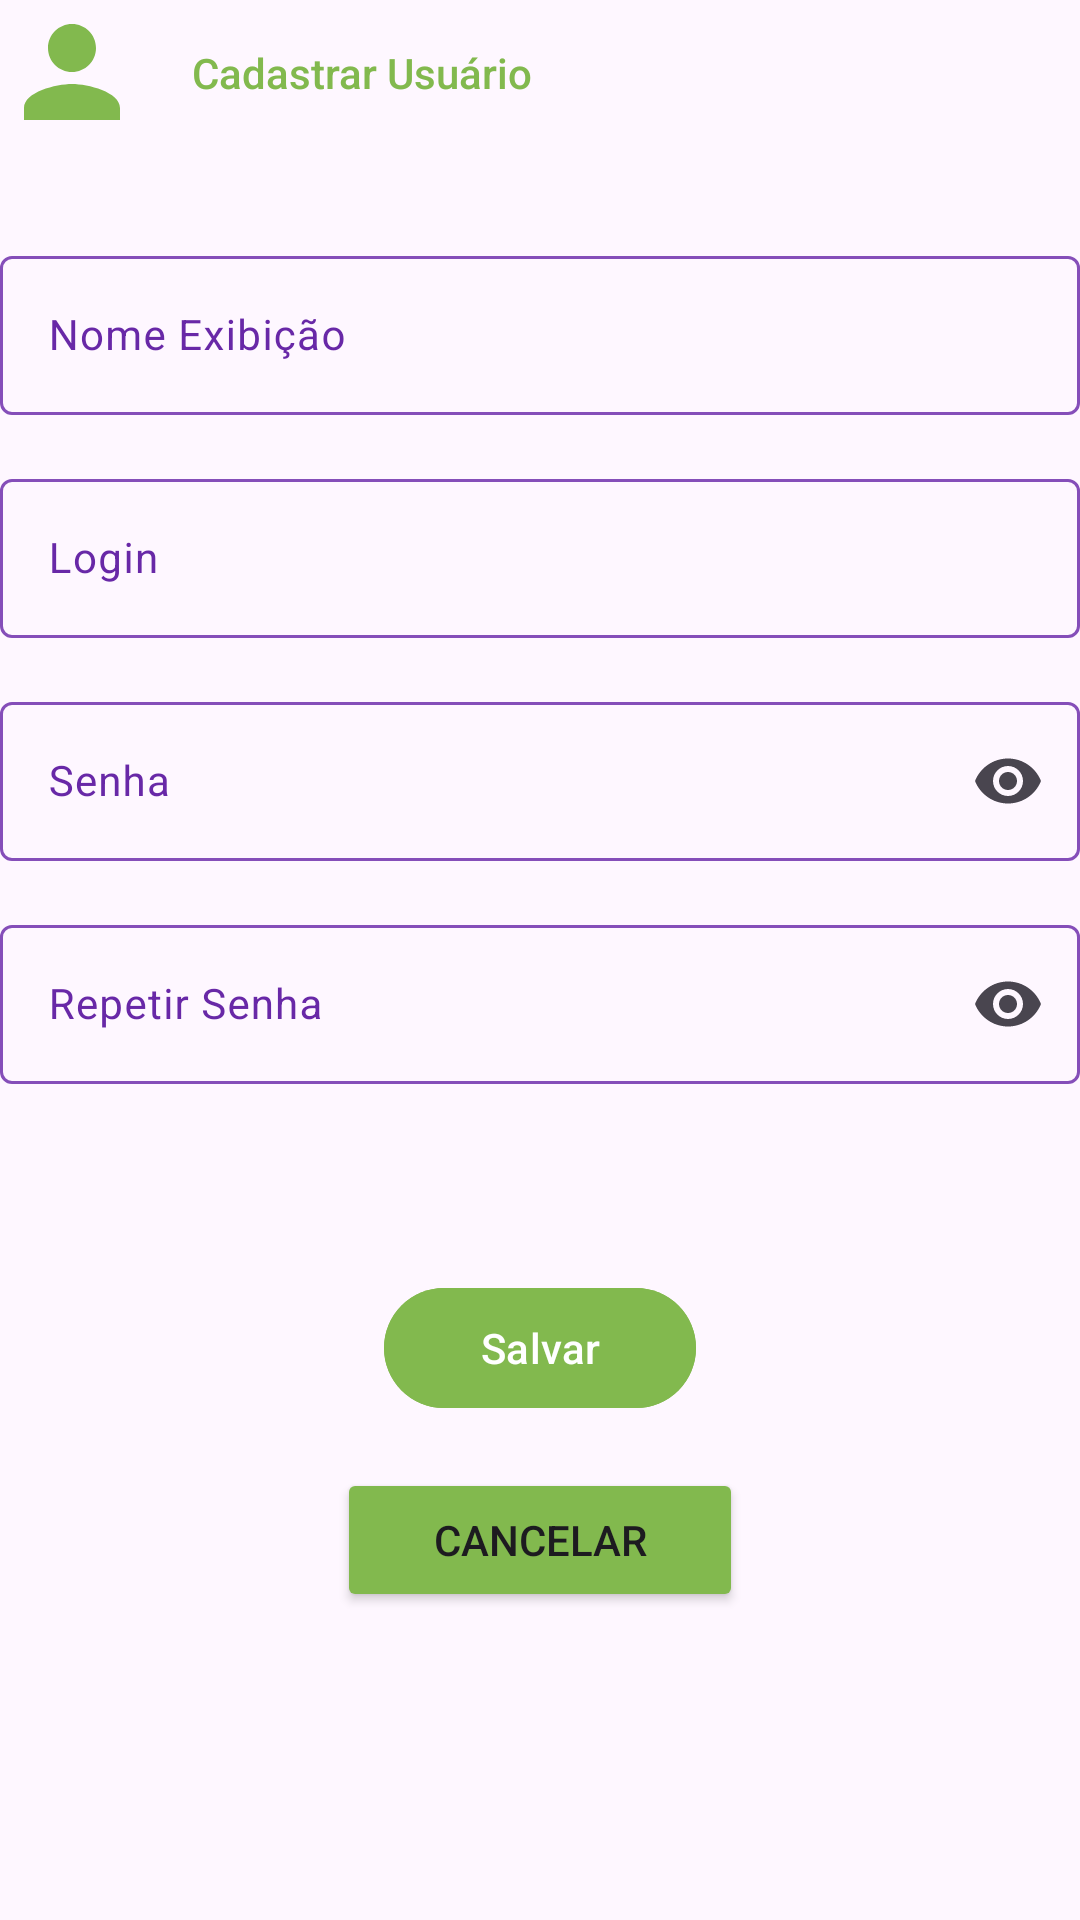

Named icons in this screenshot (1080×1920) and their bounding boxes, box(x1, y1, x2, y2):
user: box(24, 24, 120, 120)
